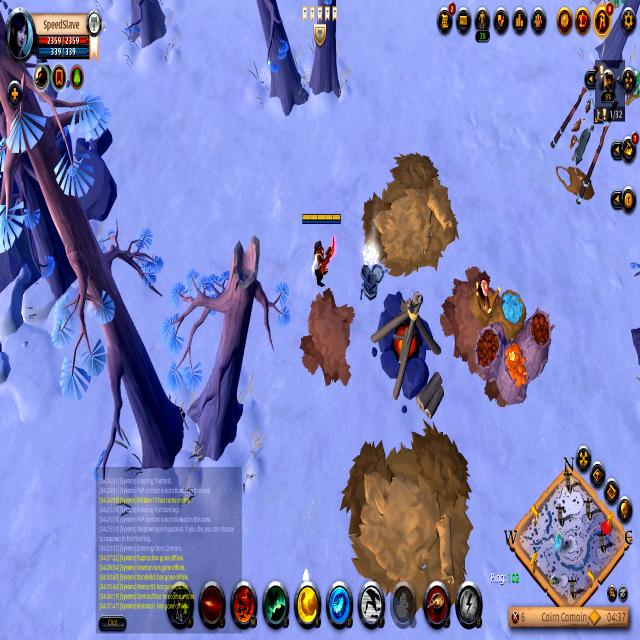hide: (623, 63, 640, 117)
red: (300, 210, 342, 293)
stone: (362, 240, 381, 274)
